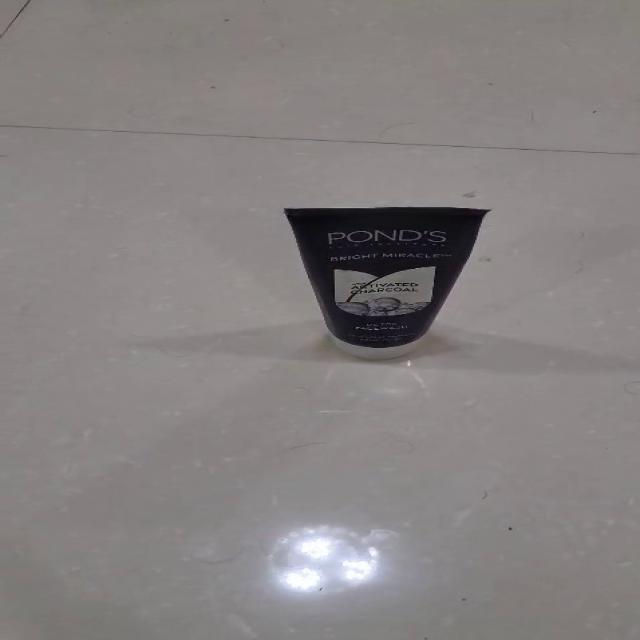plastic: (282, 205, 492, 360)
